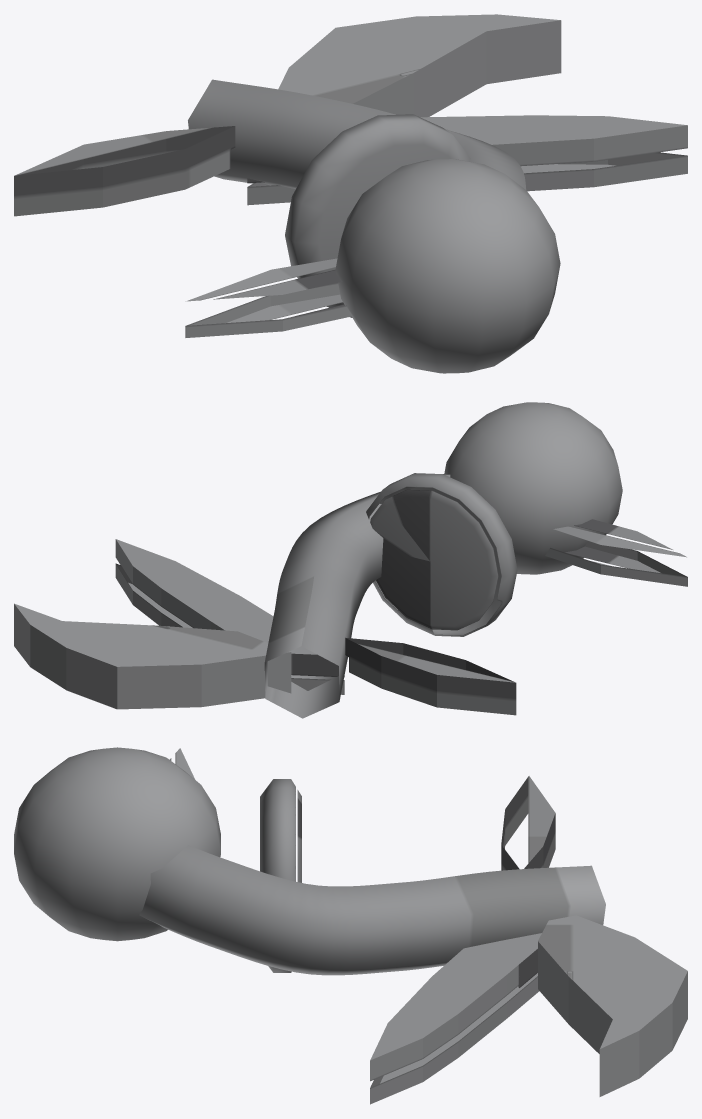
The picture shows the model from 3 angles, top to bottom: view 1: azimuth 30°, elevation 25°; view 2: azimuth 150°, elevation 25°; view 3: azimuth 270°, elevation 25°; orthographic projection. The views are drawn at different scales.
Size of the model in its own units: 1.44 by 0.4909 by 1.53.
